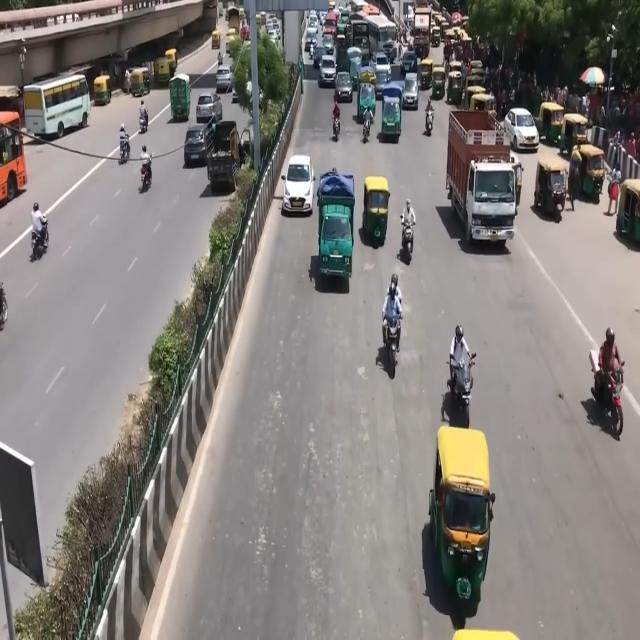auto: (429, 424, 492, 607), (534, 151, 568, 219), (362, 175, 391, 248), (570, 143, 605, 202), (616, 178, 640, 248), (560, 111, 590, 158), (381, 87, 404, 143), (538, 100, 564, 148), (358, 78, 377, 122), (127, 65, 150, 98), (446, 67, 465, 105), (464, 71, 484, 106), (469, 92, 495, 118), (153, 56, 174, 88), (93, 74, 112, 106), (418, 57, 434, 93), (431, 64, 446, 99), (211, 28, 221, 48)
bike-auto: (593, 350, 625, 438), (448, 350, 477, 422), (598, 327, 623, 399), (449, 325, 473, 393), (382, 278, 403, 344), (382, 310, 403, 371), (31, 217, 49, 259), (605, 169, 621, 215), (400, 216, 415, 261), (140, 154, 152, 190), (118, 134, 131, 165), (332, 96, 340, 136), (424, 105, 434, 135), (139, 100, 148, 132), (362, 114, 372, 142), (426, 98, 432, 116)
